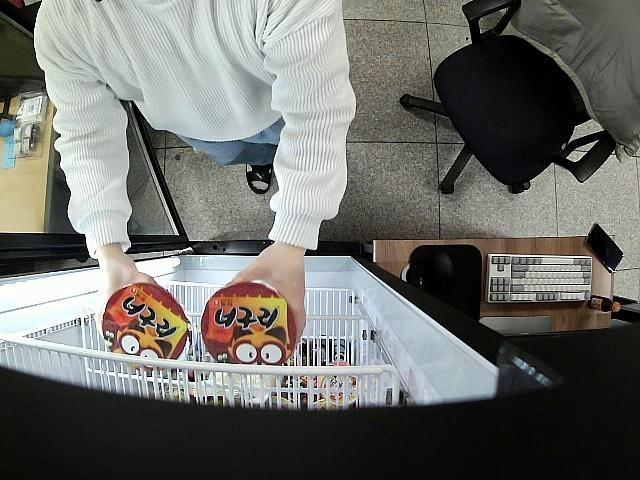05_nuguri_L: (201, 282, 296, 364), (103, 282, 188, 369)
